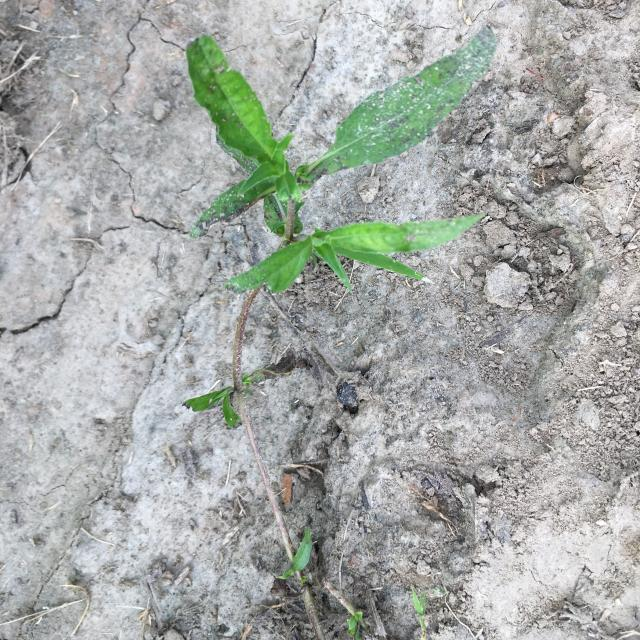Eclipta: (182, 24, 498, 430)
